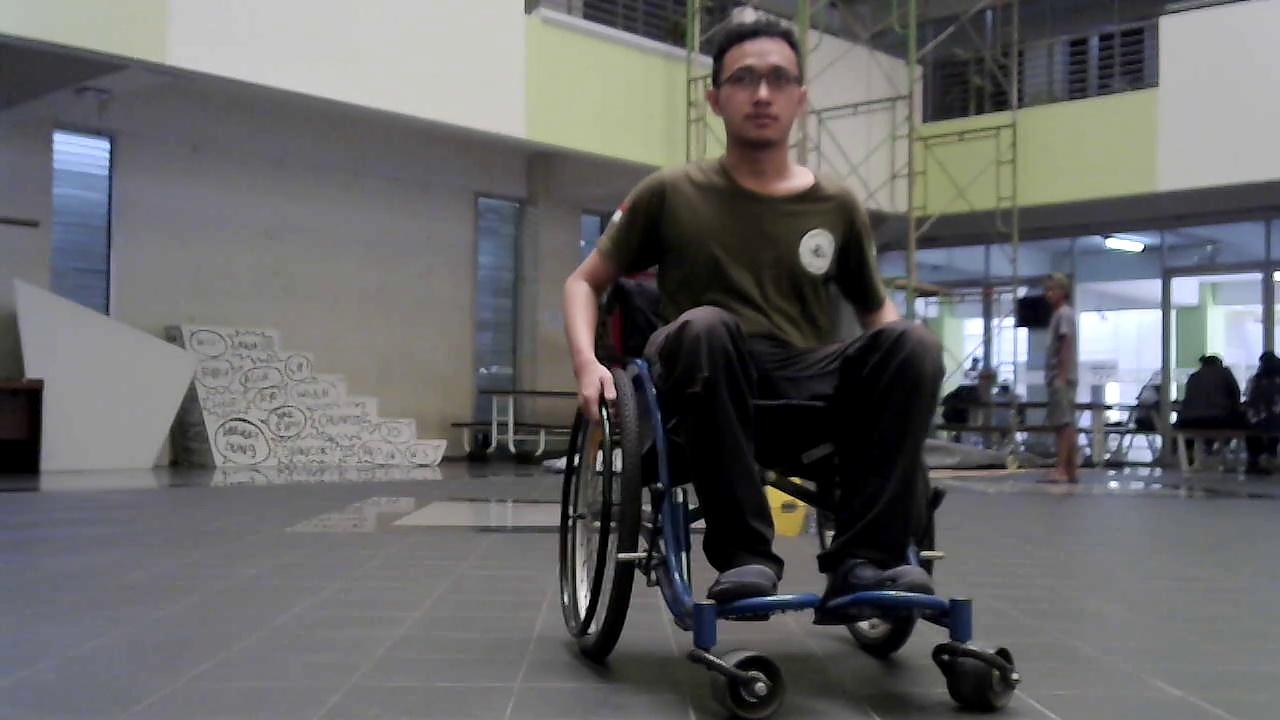person: (560, 5, 945, 614), (1174, 353, 1246, 474), (1040, 275, 1081, 485), (1242, 352, 1280, 471)
wheelchair: (538, 244, 1035, 720)
